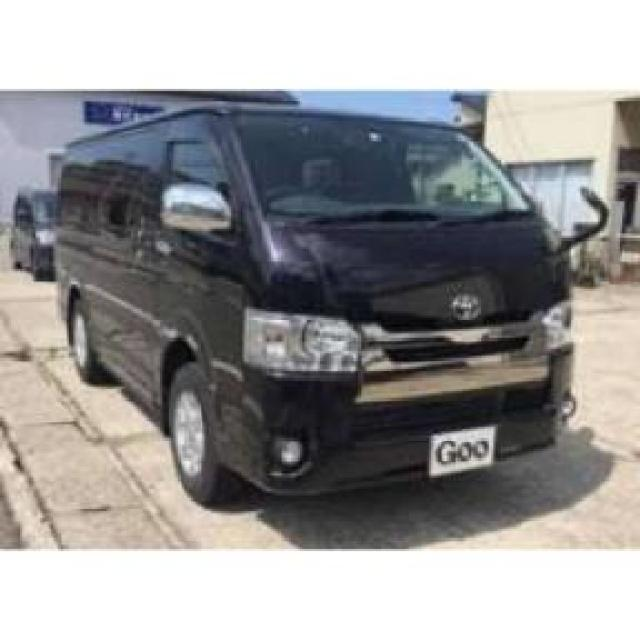Van: (56, 93, 578, 518)
